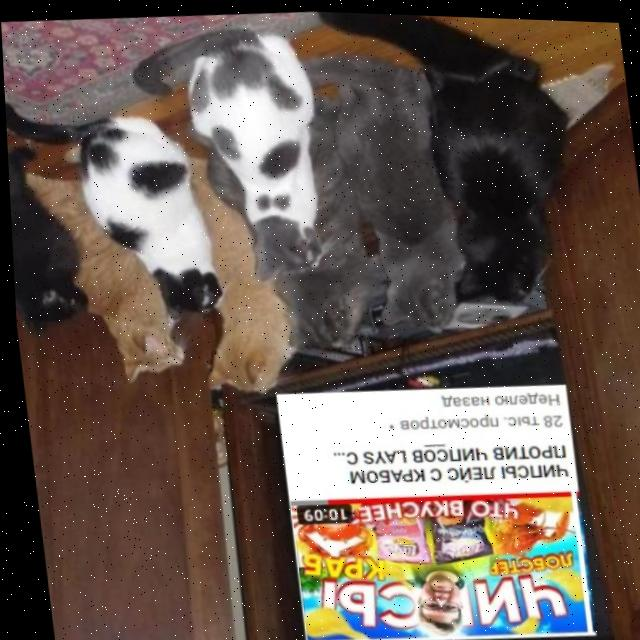Cats: (152, 12, 328, 293), (407, 50, 582, 304), (321, 63, 470, 335), (62, 114, 225, 323), (51, 239, 191, 396), (184, 241, 290, 402), (6, 156, 85, 338), (258, 254, 356, 344)
